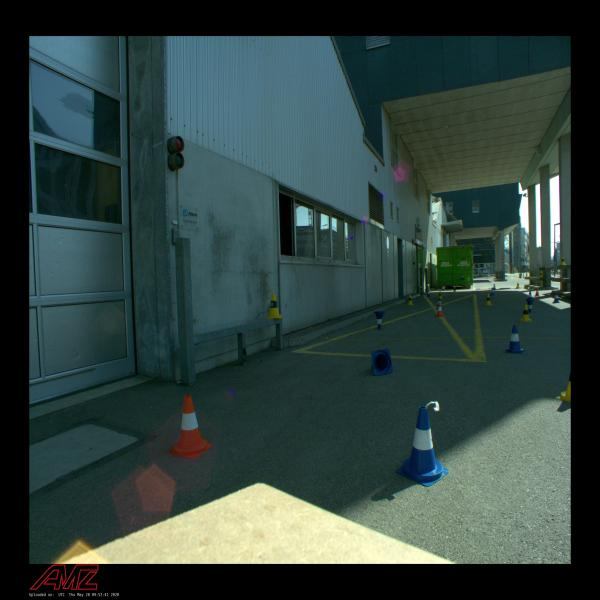blue_cone: (395, 406, 449, 487), (371, 348, 392, 376), (505, 324, 524, 353), (374, 311, 384, 330), (525, 299, 535, 313), (552, 292, 560, 303), (436, 298, 443, 310), (527, 291, 533, 301), (426, 290, 431, 297), (490, 288, 494, 296), (442, 285, 445, 291), (461, 274, 464, 280), (493, 284, 496, 290)
orange_cone: (168, 395, 212, 459), (436, 303, 444, 317), (534, 288, 540, 297)
yellow_cone: (267, 294, 282, 318), (520, 305, 532, 322), (484, 294, 493, 306), (406, 295, 414, 305), (437, 291, 443, 299), (560, 257, 566, 265), (452, 286, 457, 293), (539, 271, 543, 278), (516, 282, 519, 288)
